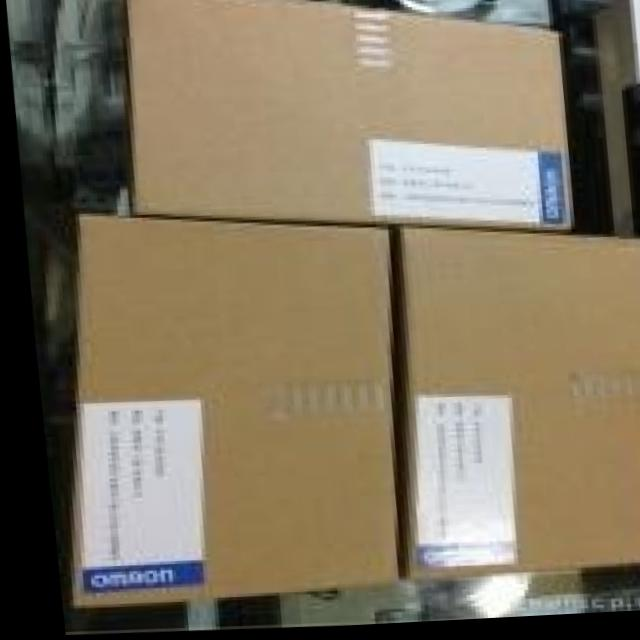box: (40, 211, 386, 608), (77, 0, 569, 241), (386, 230, 640, 586)
